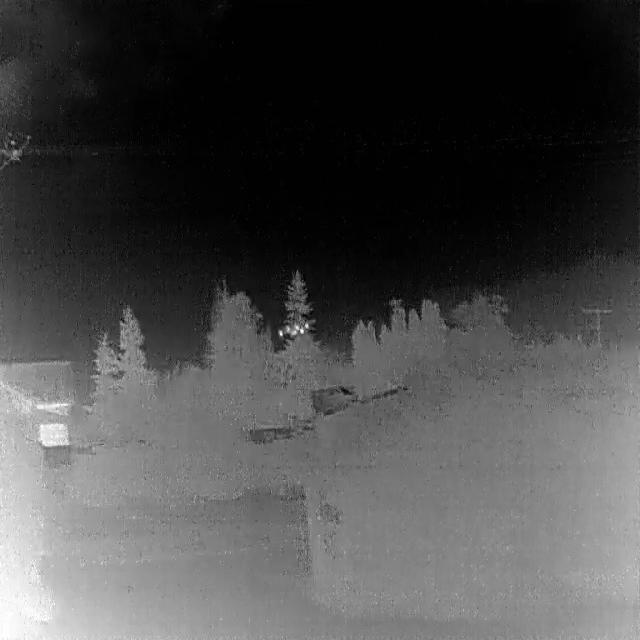drone: (278, 320, 312, 340)
